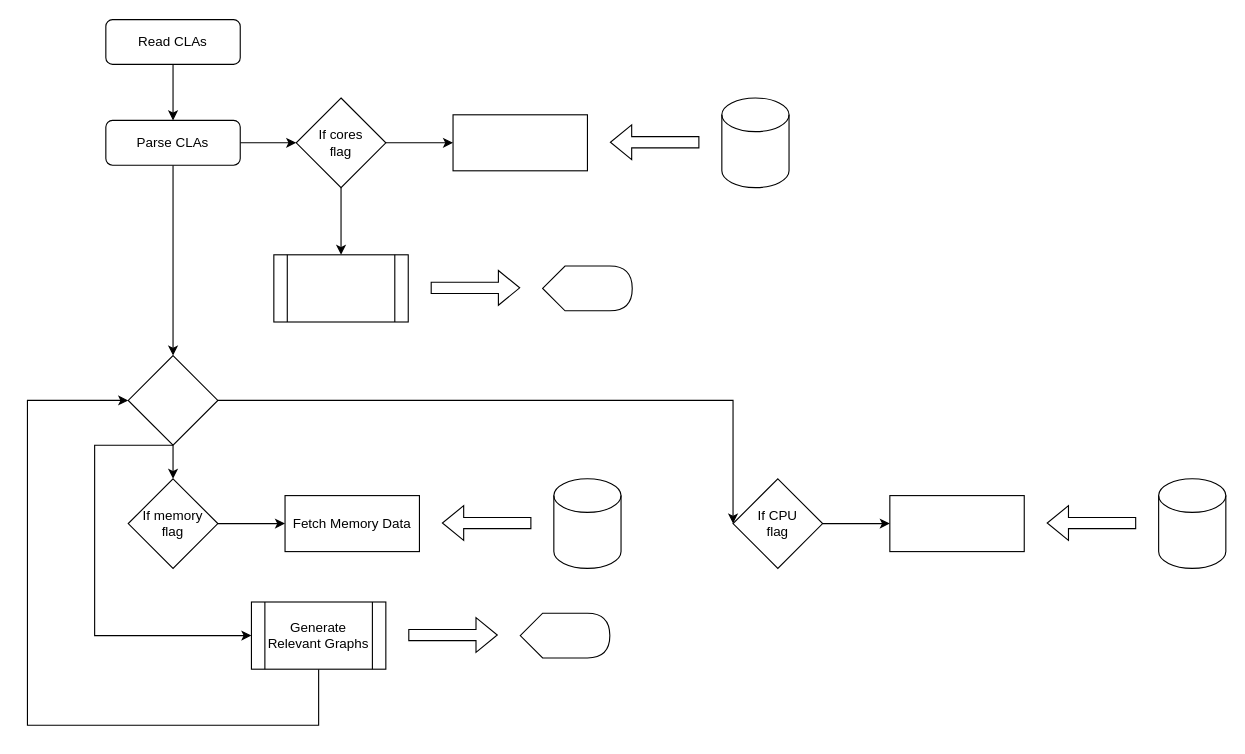
The diagram is 1245 pixels wide and 754 high, and some of its shapes have lost their labels. Here are the shapes that lost their labels. From the top down, the box of each, then its label:
(452, 114, 587, 171): Fetch cores Data
(273, 254, 408, 322): Generate Cores Visualization
(127, 354, 218, 445): For each sample
(889, 494, 1024, 552): Fetch CPU Data
